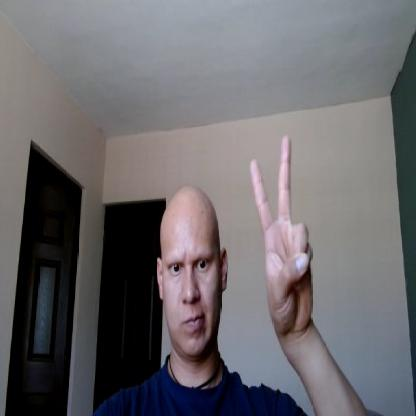V: (249, 134, 316, 332)
